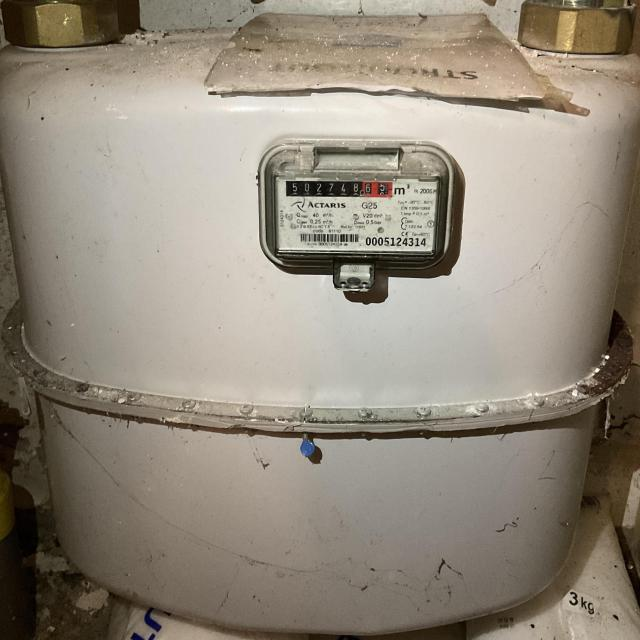gaz_meter: (263, 142, 454, 269)
indication: (286, 180, 393, 198)
